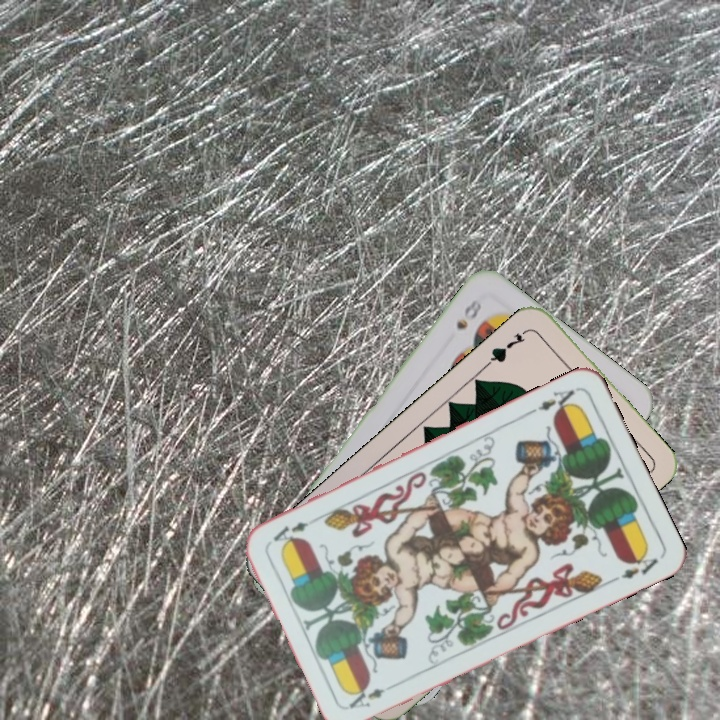EA: (344, 679, 400, 712), (525, 385, 579, 418)
G7: (483, 325, 532, 368)
S8: (452, 294, 485, 333)
